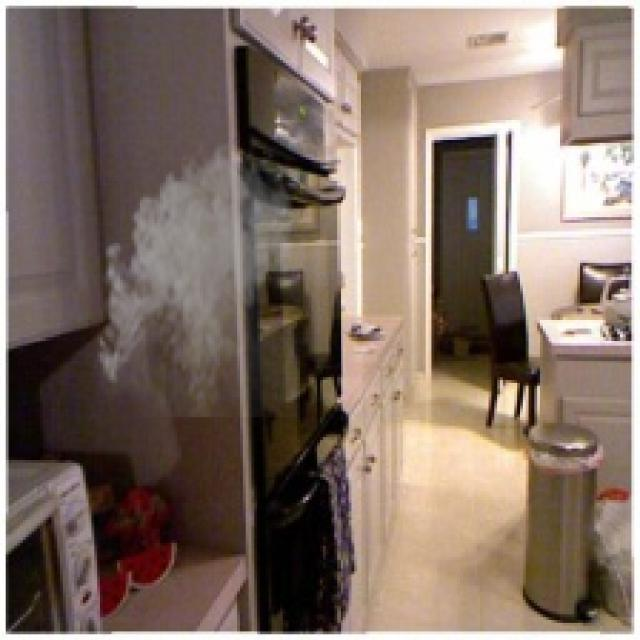Smoke: (91, 134, 300, 417)
